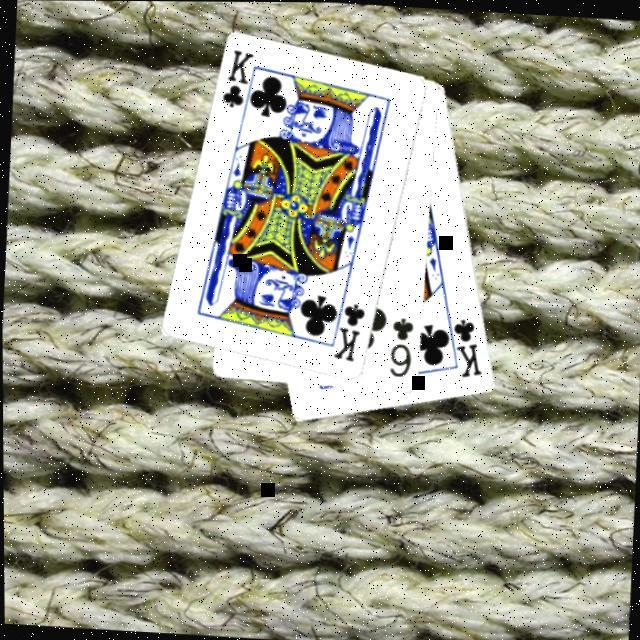6C: (386, 314, 418, 379)
KC: (219, 46, 263, 121), (326, 290, 370, 364), (441, 311, 488, 380)
